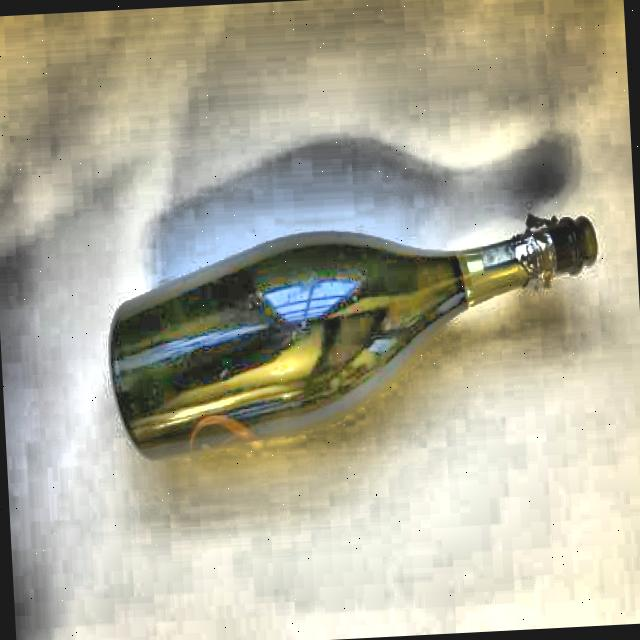glass: (106, 208, 612, 462)
